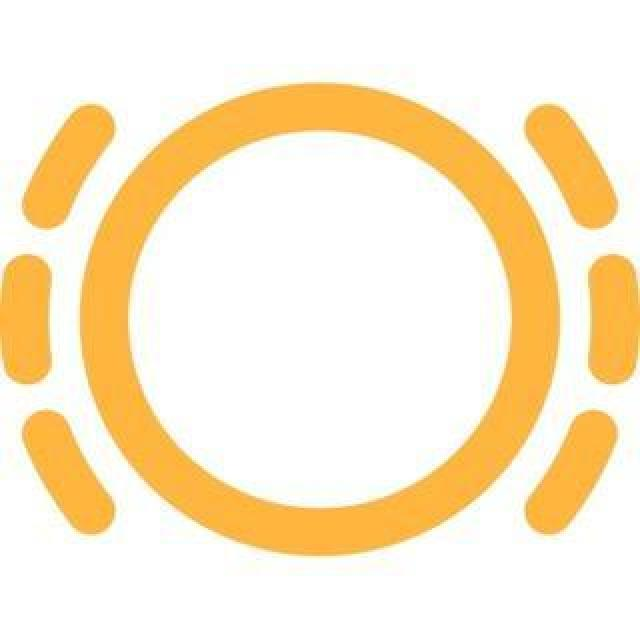kontrolka: (3, 85, 638, 562)
